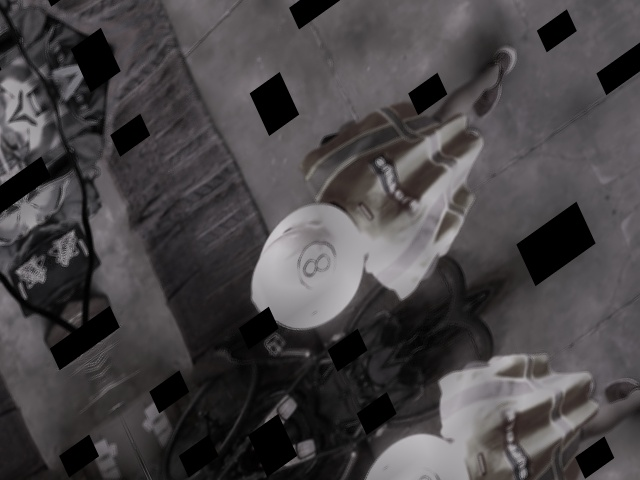eight: (288, 231, 345, 298)
